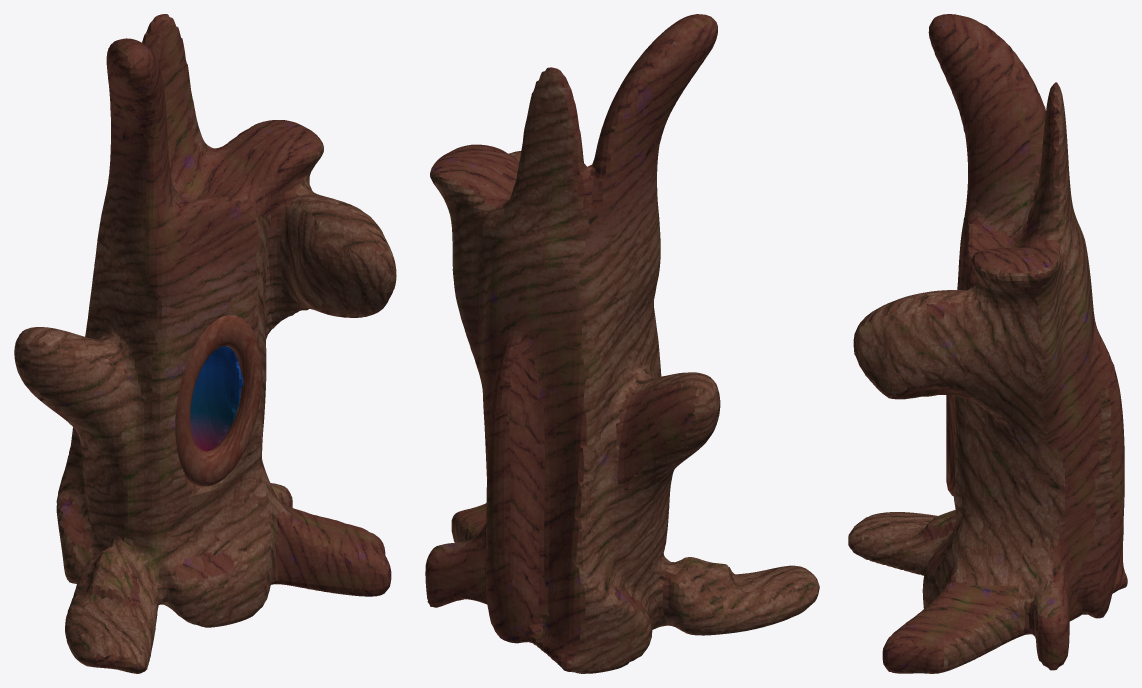
The model's file is Hollow Tree.fbx.
3 views of the same model, side by side, from view 1: azimuth 30°, elevation 25°; view 2: azimuth 150°, elevation 25°; view 3: azimuth 270°, elevation 25° (orthographic). The views are drawn at different scales.
Visible parts, largest first — view 1: baking part; view 2: baking part; view 3: baking part.
Part boxes in pixels (box(x1,y1,x2,y2)): baking part: box(14, 14, 396, 673); baking part: box(425, 14, 819, 673); baking part: box(848, 14, 1127, 673).
Bounding box in the file's own units: 217 × 377 × 168.
Materials: 1 (1 with a texture image).
